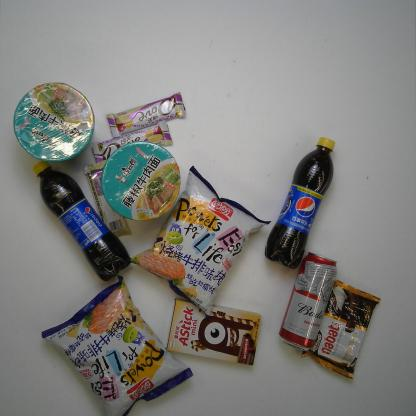Alcohol: (277, 250, 339, 355)
Chocolate: (81, 159, 133, 239), (104, 88, 189, 136), (90, 120, 174, 162)
Dessert: (298, 280, 382, 381), (166, 296, 264, 368)
Drink: (28, 160, 132, 282), (263, 134, 338, 269)
Instant Noodles: (9, 80, 96, 165), (100, 138, 182, 223)
Puffed Food: (127, 162, 275, 319), (38, 272, 196, 416)
